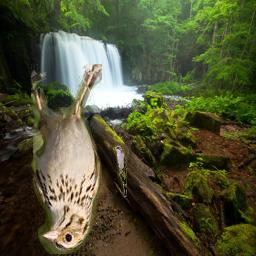Cuckoo: (113, 146, 127, 199)
Sparrow: (32, 64, 103, 254)
